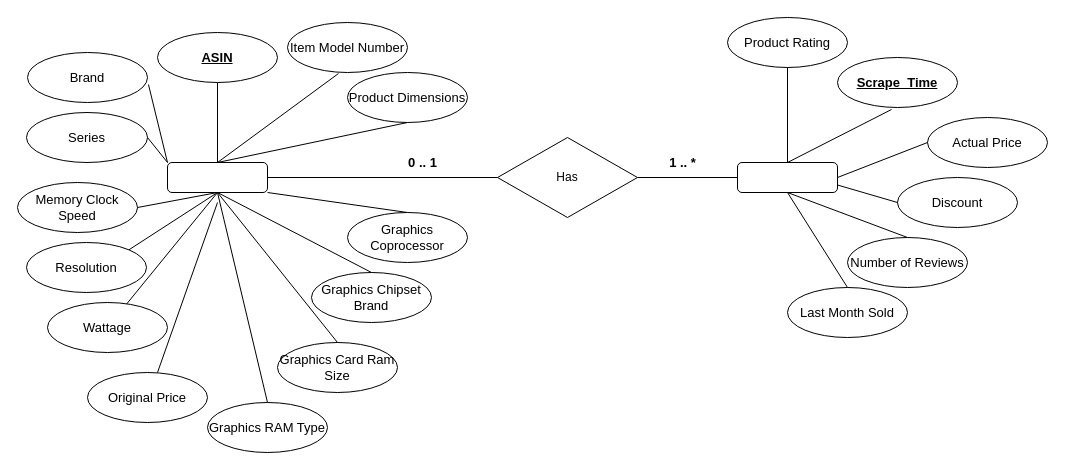
Some shapes in this 1065 by 470 pixel diagram are drawn without their labels. The shapes that lost their labels are listed below. From the top down, each one's centre as x and y in pixels, then its label:
pixel 217 177: Product Details
pixel 787 177: Scrape Results
